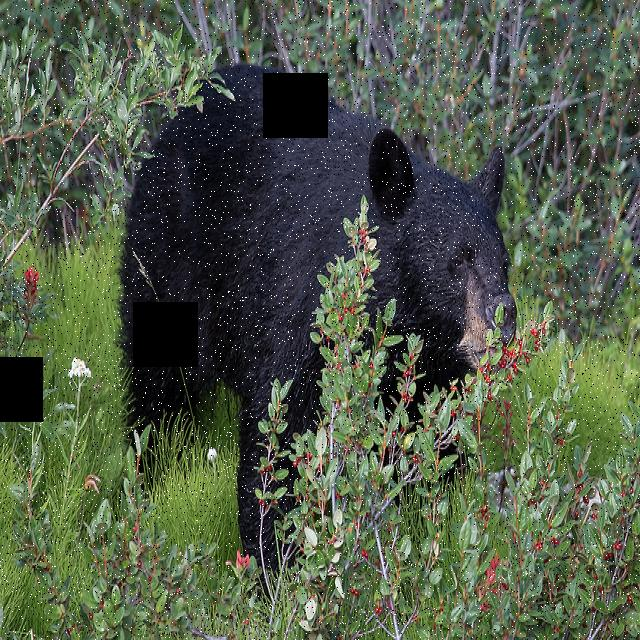Bear: (113, 57, 528, 546)
